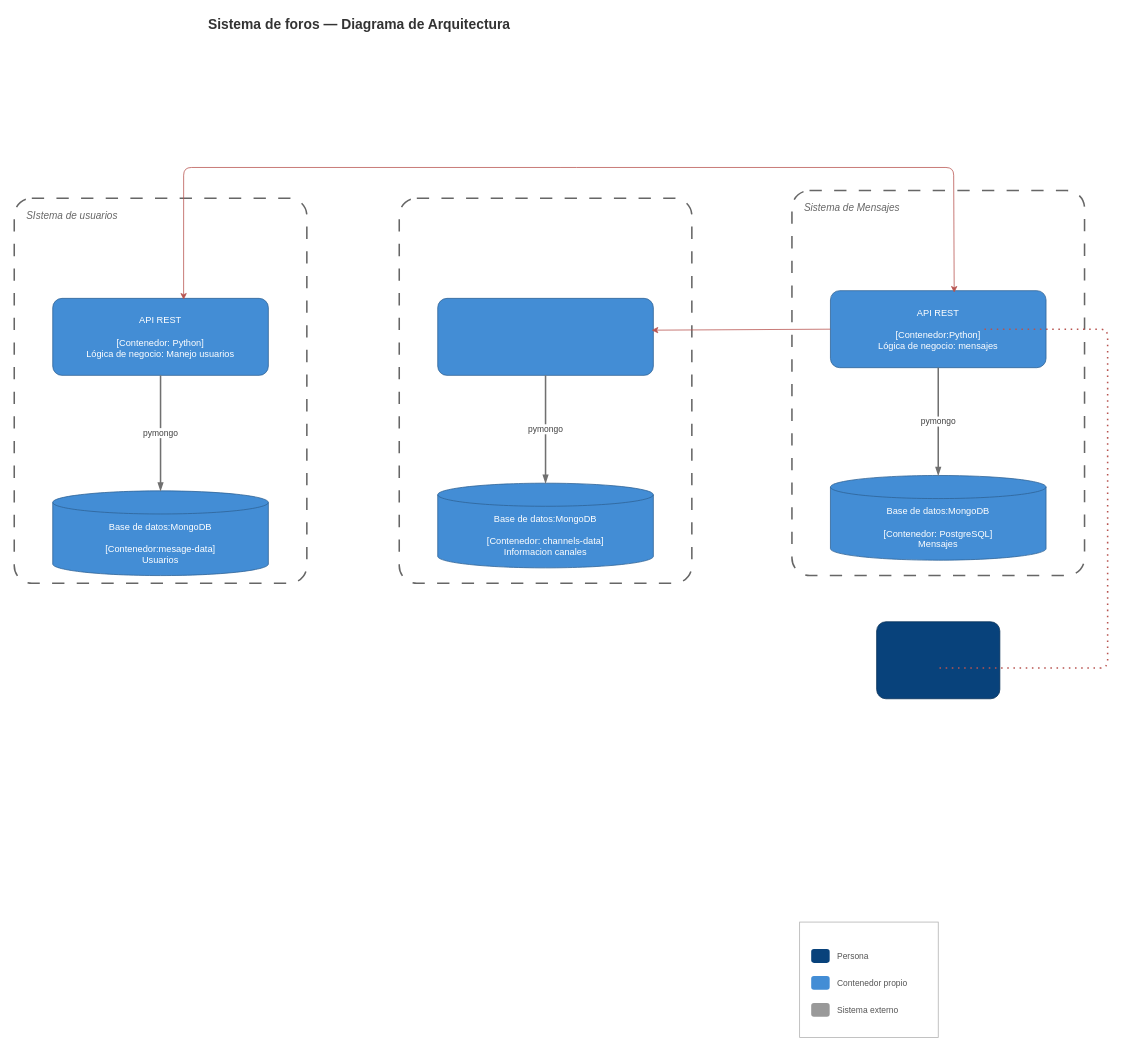
Image size: 1122x1051. Some labels were removed from this diagram. Each missing label, with the box of its shape:
API REST [Contenedor: Python ] Lógica de negocio: canales: (437, 298, 653, 375)
Leyenda: (799, 921, 938, 1038)
RabbitMMQ [Comunicacion]: (876, 621, 1000, 699)
Sistema de Canales: (398, 197, 692, 584)
